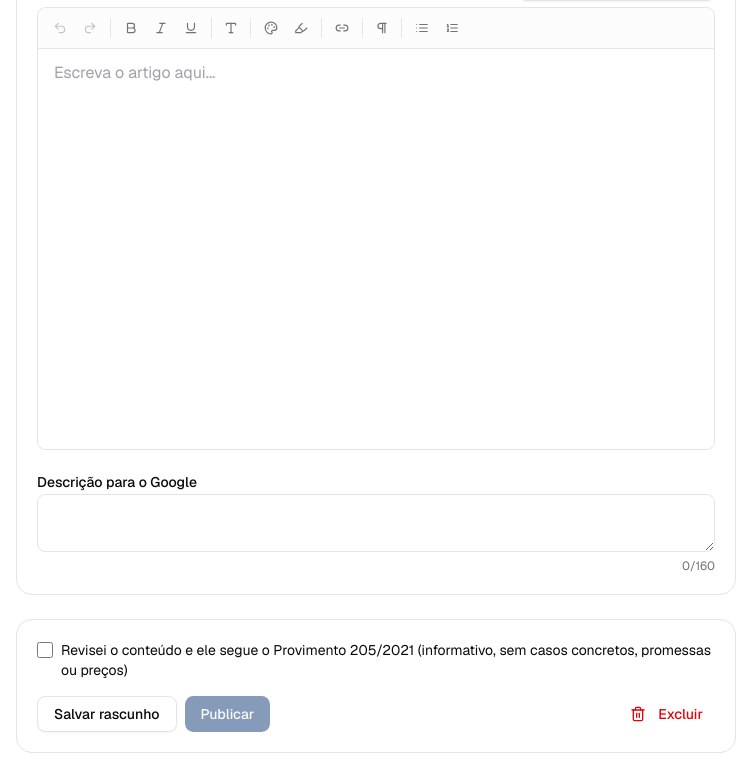
Test: ArticleEditor › shows the API error for a taken slug
(page scrolled)
Click the button "Salvar rascunho" at (107, 714), box [37,696,176,732]
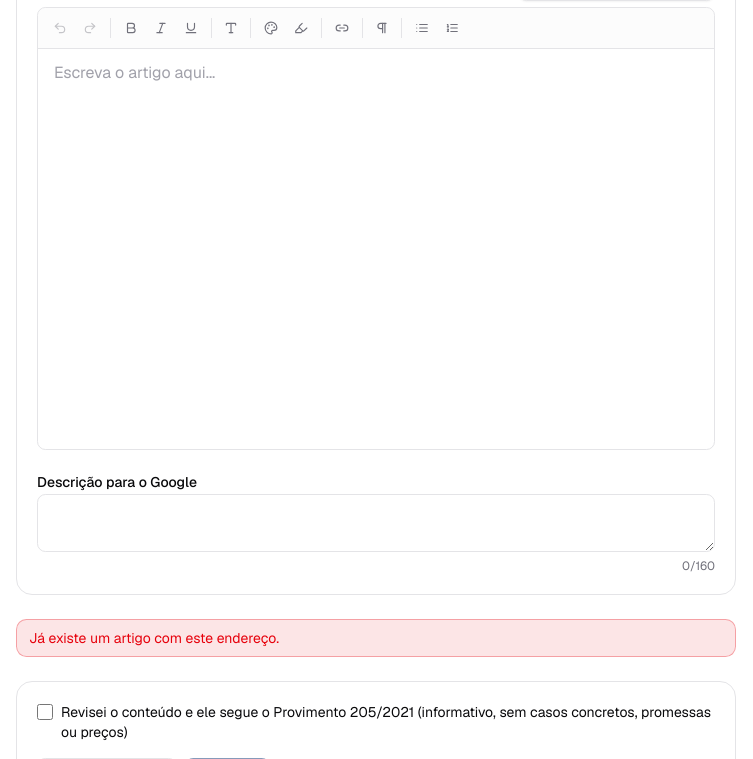
expect the message reads "Já existe um artigo com este endereço.": met, box [29,629,279,647]
